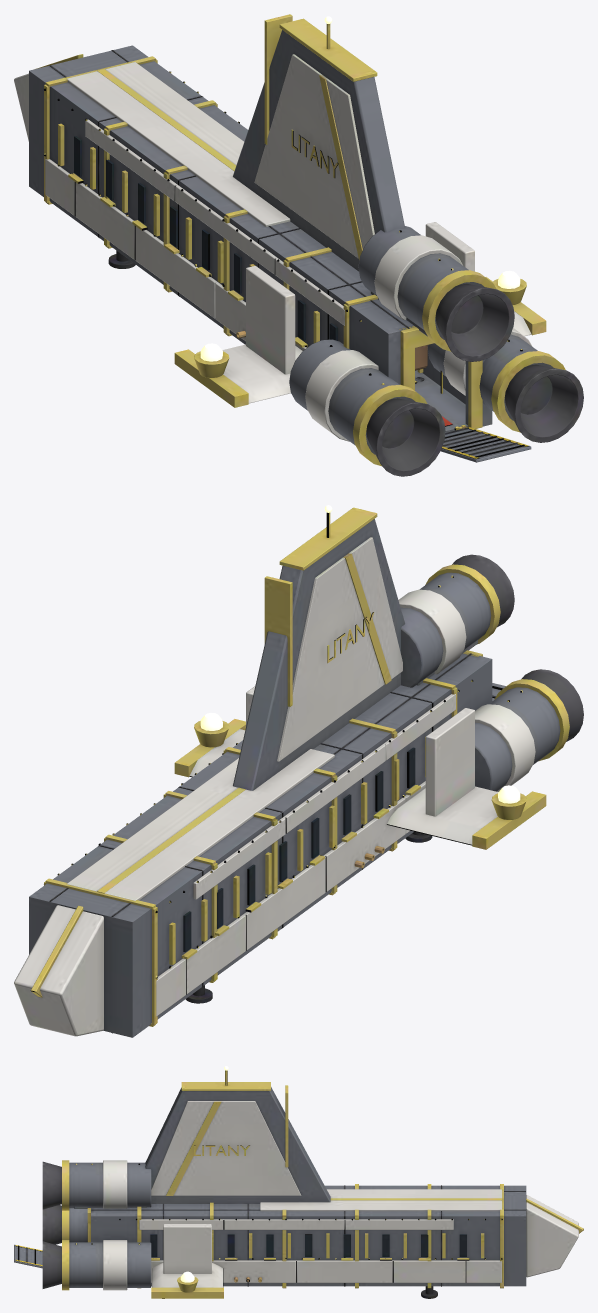
The model's file is litany.glb.
3 views of the same model, one above another, from view 1: azimuth 30°, elevation 25°; view 2: azimuth 150°, elevation 25°; view 3: azimuth 270°, elevation 25° (orthographic). The views are drawn at different scales.
Visible parts, largest first — view 1: hull, glass, ramp.001, lights; view 2: hull, glass, lights; view 3: hull, glass, ramp.001.
Boxes of the visible parts, <box> form: hull: <box>14,14,583,476</box>; glass: <box>74,136,337,340</box>; ramp.001: <box>441,427,531,462</box>; lights: <box>200,16,520,361</box>; hull: <box>14,507,583,1037</box>; glass: <box>183,747,415,952</box>; lights: <box>200,505,520,803</box>; hull: <box>42,1070,583,1298</box>; glass: <box>150,1234,466,1256</box>; ramp.001: <box>14,1244,42,1268</box>.
Size of the model in its own units: 9.47 by 9.95 by 23.57.
11 materials, 10 textured.
